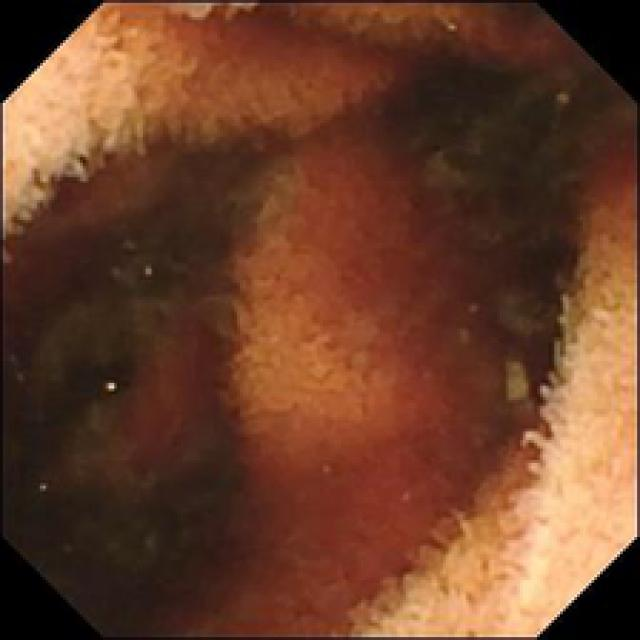bleeding: (101, 164, 481, 628)
